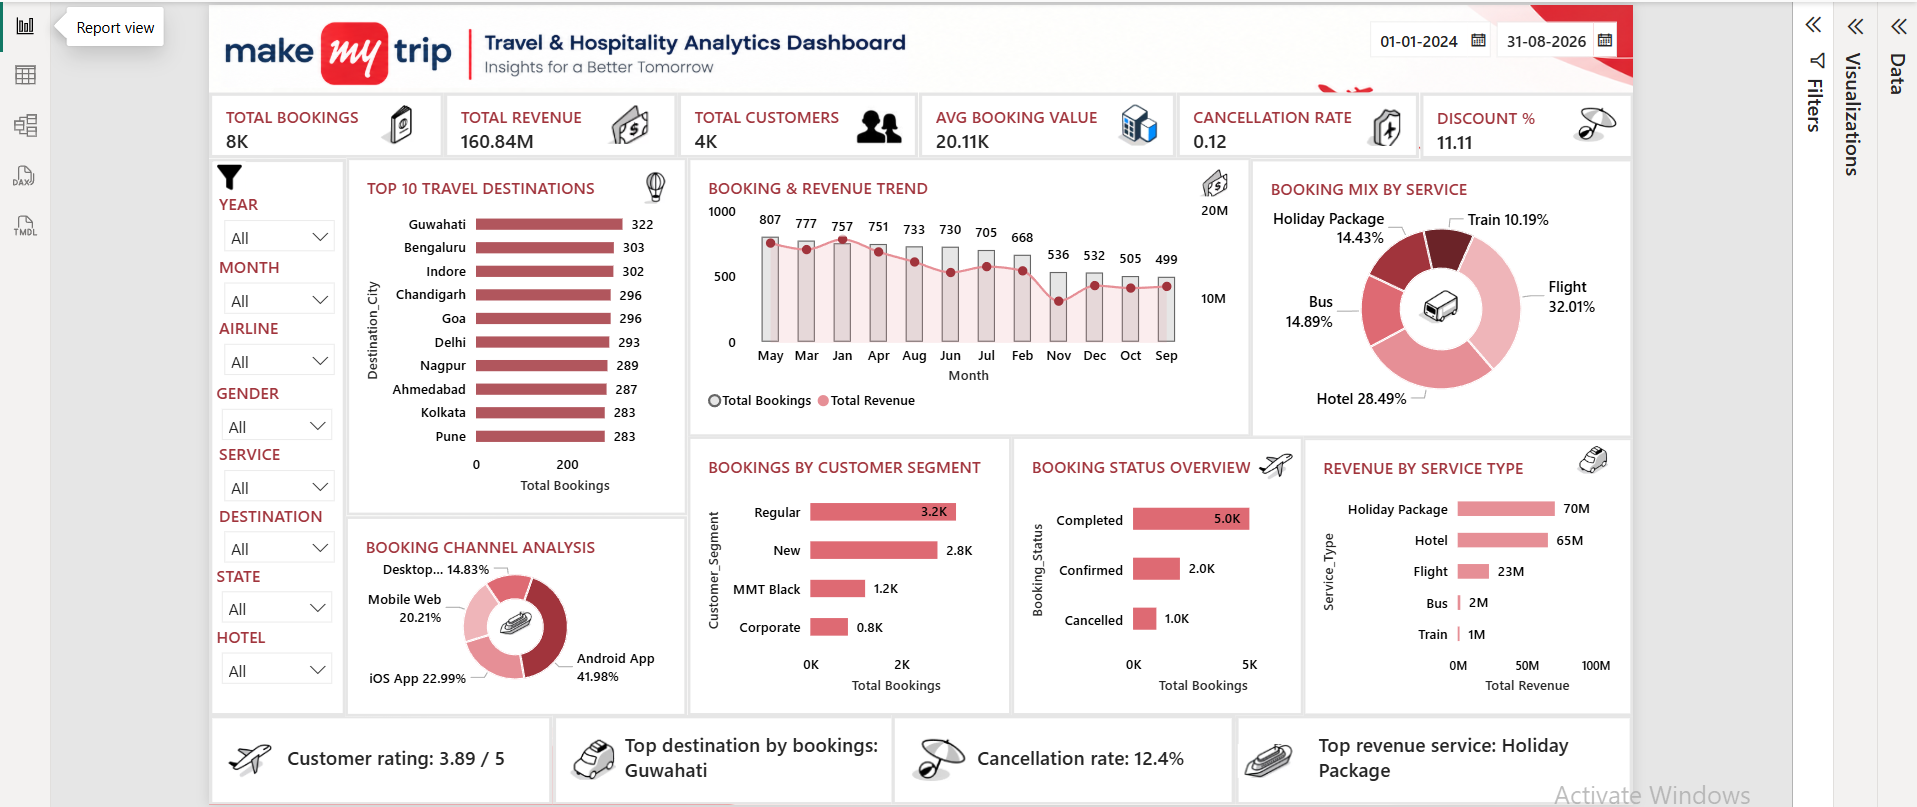

Layout of this report page (visuals, bound fields, positions):
{"tool":"powerbi","page":{"name":"Page 1","canvas":[1280,720],"ordinal":0},"visuals":[{"type":"shape","box":[922.5,638.8,357.5,81.2],"z":1000},{"type":"shape","box":[0,137.7,123.2,501.2],"z":2000},{"type":"image","box":[10,0,618.8,78.8],"z":3000},{"type":"cardVisual","fields":{"Data":["Bookings.Total Bookings"]},"box":[0,78.5,211.4,59.2],"z":4000},{"type":"cardVisual","fields":{"Data":["Bookings.Total Revenue"]},"box":[211.4,78.5,210.2,59.2],"z":5000},{"type":"cardVisual","fields":{"Data":["Bookings.Total Customers"]},"box":[421.5,78.5,216.2,59.2],"z":6000},{"type":"cardVisual","fields":{"Data":["Bookings.Average Booking Value"]},"box":[637.7,78.5,231.9,59.2],"z":7000},{"type":"cardVisual","fields":{"Data":["Bookings.Cancellation Rate"]},"box":[869.6,78.5,218.6,59.2],"z":8000},{"type":"lineClusteredColumnComboChart","title":"BOOKING & REVENUE TREND","fields":{"Category":["DateTable.Month"],"Y":["Bookings.Total Bookings"],"Y2":["Bookings.Total Revenue"]},"box":[430,137.5,506.2,251.2],"z":9000},{"type":"clusteredBarChart","title":"REVENUE BY SERVICE TYPE","fields":{"Y":["Bookings.Total Revenue"],"Category":["Bookings.Service_Type"]},"box":[983.1,388.9,297.1,250],"z":10000},{"type":"donutChart","title":"BOOKING MIX BY SERVICE","fields":{"Category":["Bookings.Service_Type"],"Y":["Bookings.Total Bookings"]},"box":[936,137.7,344.2,251.2],"z":11000},{"type":"clusteredBarChart","title":"TOP 10 TRAVEL DESTINATIONS","fields":{"Category":["Bookings.Destination_City"],"Y":["Bookings.Total Bookings"]},"box":[123.8,137.5,306.2,321.2],"z":12000},{"type":"clusteredBarChart","title":"BOOKING STATUS OVERVIEW","fields":{"Y":["Bookings.Total Bookings"],"Category":["Bookings.Booking_Status"]},"box":[721,387.7,262.1,251.2],"z":13000},{"type":"clusteredBarChart","title":"BOOKINGS BY CUSTOMER SEGMENT","fields":{"Category":["Bookings.Customer_Segment"],"Y":["Bookings.Total Bookings"]},"box":[430,387.7,291.1,251.2],"z":14000},{"type":"shape","box":[0,638.8,308.8,81.2],"z":15000},{"type":"slicer","title":"YEAR","fields":{"Values":["DateTable.Year"]},"box":[8.5,169.1,108.7,55.6],"z":16000},{"type":"slicer","title":"MONTH","fields":{"Values":["DateTable.Month"]},"box":[8.5,224.6,108.7,55.6],"z":17000},{"type":"slicer","title":"AIRLINE","fields":{"Values":["Bookings.Airline"]},"box":[8.5,280.2,108.7,58],"z":18000},{"type":"slicer","title":"SERVICE","fields":{"Values":["Bookings.Service_Type"]},"box":[8.5,393.7,108.7,54.4],"z":19000},{"type":"slicer","title":"GENDER","fields":{"Values":["Bookings.Gender"]},"box":[7.2,338.2,108.7,55.6],"z":20000},{"type":"slicer","title":"DESTINATION","fields":{"Values":["Bookings.Destination_City"]},"box":[8.5,448.1,108.7,54.4],"z":21000},{"type":"slicer","title":"STATE","fields":{"Values":["Bookings.Home_State"]},"box":[7.2,502.4,108.7,54.4],"z":22000},{"type":"donutChart","title":"BOOKING CHANNEL ANALYSIS","fields":{"Category":["Bookings.Device_Type"],"Y":["Bookings.Total Bookings"]},"box":[123,459,307,180],"z":23000},{"type":"slicer","title":"HOTEL","fields":{"Values":["Bookings.Hotel_Name"]},"box":[7.2,556.8,108.7,54.4],"z":24000},{"type":"cardVisual","fields":{"Data":["Bookings.Average Discount %"]},"box":[1088.2,78.5,192,60.4],"z":25000},{"type":"image","box":[137.5,87.5,63.8,41.2],"z":26000},{"type":"image","box":[353.8,88.8,55,37.5],"z":27000},{"type":"image","box":[575,88.8,53.8,37.5],"z":28000},{"type":"image","box":[807.5,88.8,53.8,37.5],"z":29000},{"type":"image","box":[1037.5,83.8,41.2,47.5],"z":30000},{"type":"image","box":[1216.2,83.8,52.5,47.5],"z":31000},{"type":"image","box":[1078.8,240,52.5,58.8],"z":32000},{"type":"image","box":[381.2,145,37.5,33.8],"z":33000},{"type":"image","box":[257.5,532.5,36.2,46.2],"z":34000},{"type":"image","box":[1223.8,393.8,37.5,31.2],"z":35000},{"type":"image","box":[936.2,393.8,42.5,41.2],"z":36000},{"type":"image","box":[887.5,147.5,37.5,26.2],"z":37000},{"type":"cardVisual","fields":{"Data":["Bookings.Live Insight 1"]},"box":[985,628.8,295,91.2],"z":38000},{"type":"image","box":[7.5,643.8,53.8,67.5],"z":39000},{"type":"shape","box":[308.8,638.8,308.8,81.2],"z":40000},{"type":"shape","box":[613.8,638.8,308.8,81.2],"z":41000},{"type":"image","box":[316.2,646.2,55,65],"z":42000},{"type":"image","box":[618.8,648.8,65,62.5],"z":43000},{"type":"image","box":[925,648.8,53.8,62.5],"z":44000},{"type":"cardVisual","fields":{"Data":["Bookings.Live Insight 2"]},"box":[361.2,628.8,257.5,91.2],"z":45000},{"type":"cardVisual","fields":{"Data":["Bookings.Live Insight 3"]},"box":[678.8,628.8,257.5,91.2],"z":46000},{"type":"cardVisual","fields":{"Data":["Bookings.Live Insight 4"]},"box":[58.8,628.8,257.5,91.2],"z":47000},{"type":"image","box":[0,140,37.5,28.8],"z":47001},{"type":"slicer","fields":{"Values":["DateTable.Date"]},"box":[1036.2,10,232.5,40],"z":47002}]}

Visuals, with their boxes on the page's 1280x720 design canvas (x1, y1, x2, y2). These are canvas units, not pixel positions in the 1917x807 screenshot, which may show the page scaled, cropped or inside an application window:
shape: <bbox>922, 639, 1280, 720</bbox>
shape: <bbox>0, 138, 123, 639</bbox>
image: <bbox>10, 0, 629, 79</bbox>
cardVisual - Bookings.Total Bookings: <bbox>0, 78, 211, 138</bbox>
cardVisual - Bookings.Total Revenue: <bbox>211, 78, 422, 138</bbox>
cardVisual - Bookings.Total Customers: <bbox>422, 78, 638, 138</bbox>
cardVisual - Bookings.Average Booking Value: <bbox>638, 78, 870, 138</bbox>
cardVisual - Bookings.Cancellation Rate: <bbox>870, 78, 1088, 138</bbox>
"BOOKING & REVENUE TREND" lineClusteredColumnComboChart: <bbox>430, 138, 936, 389</bbox>
"REVENUE BY SERVICE TYPE" clusteredBarChart: <bbox>983, 389, 1280, 639</bbox>
"BOOKING MIX BY SERVICE" donutChart: <bbox>936, 138, 1280, 389</bbox>
"TOP 10 TRAVEL DESTINATIONS" clusteredBarChart: <bbox>124, 138, 430, 459</bbox>
"BOOKING STATUS OVERVIEW" clusteredBarChart: <bbox>721, 388, 983, 639</bbox>
"BOOKINGS BY CUSTOMER SEGMENT" clusteredBarChart: <bbox>430, 388, 721, 639</bbox>
shape: <bbox>0, 639, 309, 720</bbox>
"YEAR" slicer: <bbox>8, 169, 117, 225</bbox>
"MONTH" slicer: <bbox>8, 225, 117, 280</bbox>
"AIRLINE" slicer: <bbox>8, 280, 117, 338</bbox>
"SERVICE" slicer: <bbox>8, 394, 117, 448</bbox>
"GENDER" slicer: <bbox>7, 338, 116, 394</bbox>
"DESTINATION" slicer: <bbox>8, 448, 117, 502</bbox>
"STATE" slicer: <bbox>7, 502, 116, 557</bbox>
"BOOKING CHANNEL ANALYSIS" donutChart: <bbox>123, 459, 430, 639</bbox>
"HOTEL" slicer: <bbox>7, 557, 116, 611</bbox>
cardVisual - Bookings.Average Discount %: <bbox>1088, 78, 1280, 139</bbox>
image: <bbox>138, 88, 201, 129</bbox>
image: <bbox>354, 89, 409, 126</bbox>
image: <bbox>575, 89, 629, 126</bbox>
image: <bbox>808, 89, 861, 126</bbox>
image: <bbox>1038, 84, 1079, 131</bbox>
image: <bbox>1216, 84, 1269, 131</bbox>
image: <bbox>1079, 240, 1131, 299</bbox>
image: <bbox>381, 145, 419, 179</bbox>
image: <bbox>258, 532, 294, 579</bbox>
image: <bbox>1224, 394, 1261, 425</bbox>
image: <bbox>936, 394, 979, 435</bbox>
image: <bbox>888, 148, 925, 174</bbox>
cardVisual - Bookings.Live Insight 1: <bbox>985, 629, 1280, 720</bbox>
image: <bbox>8, 644, 61, 711</bbox>
shape: <bbox>309, 639, 618, 720</bbox>
shape: <bbox>614, 639, 923, 720</bbox>
image: <bbox>316, 646, 371, 711</bbox>
image: <bbox>619, 649, 684, 711</bbox>
image: <bbox>925, 649, 979, 711</bbox>
cardVisual - Bookings.Live Insight 2: <bbox>361, 629, 619, 720</bbox>
cardVisual - Bookings.Live Insight 3: <bbox>679, 629, 936, 720</bbox>
cardVisual - Bookings.Live Insight 4: <bbox>59, 629, 316, 720</bbox>
image: <bbox>0, 140, 38, 169</bbox>
slicer - DateTable.Date: <bbox>1036, 10, 1269, 50</bbox>
